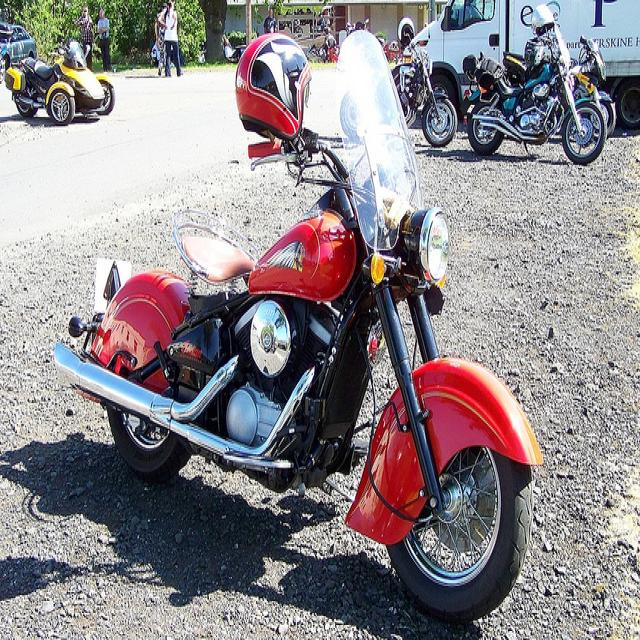motor: (49, 20, 545, 614), (468, 17, 603, 167), (341, 34, 460, 149), (504, 34, 618, 137), (5, 41, 116, 126)
